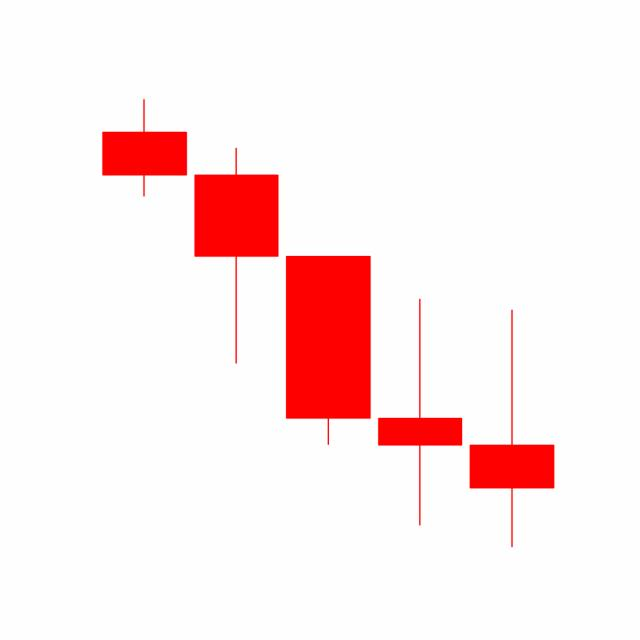Spinning Top: (373, 296, 467, 528)
